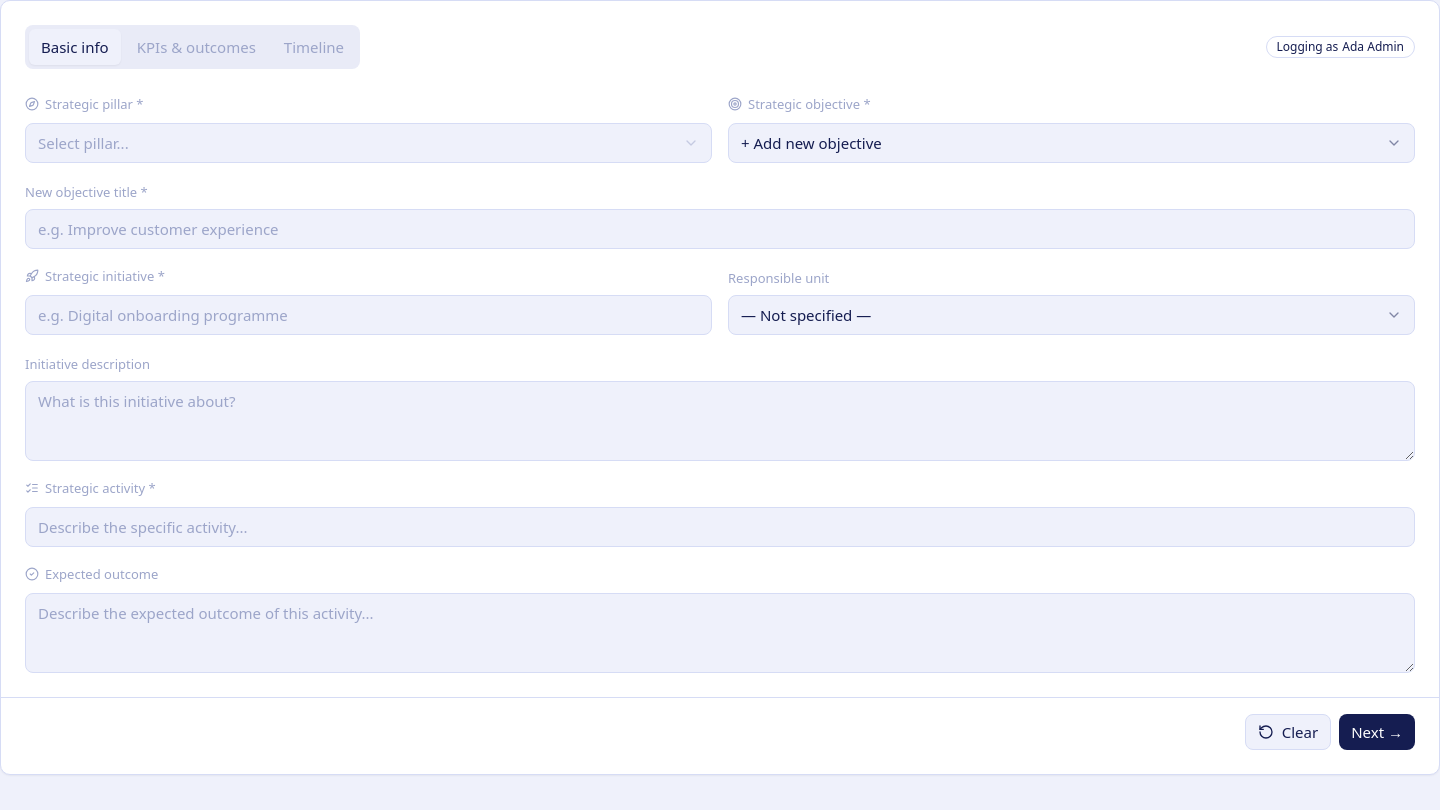
Test: StrategyEntryForm › walks through the steps with Next and shows labelled fields
Expected: the field labelled "Strategic initiative *" is shown, x1=25 y1=295 x2=712 y2=335
Step 1. Click the button "Next →" → click(1377, 732), box x1=1339 y1=714 x2=1415 y2=750
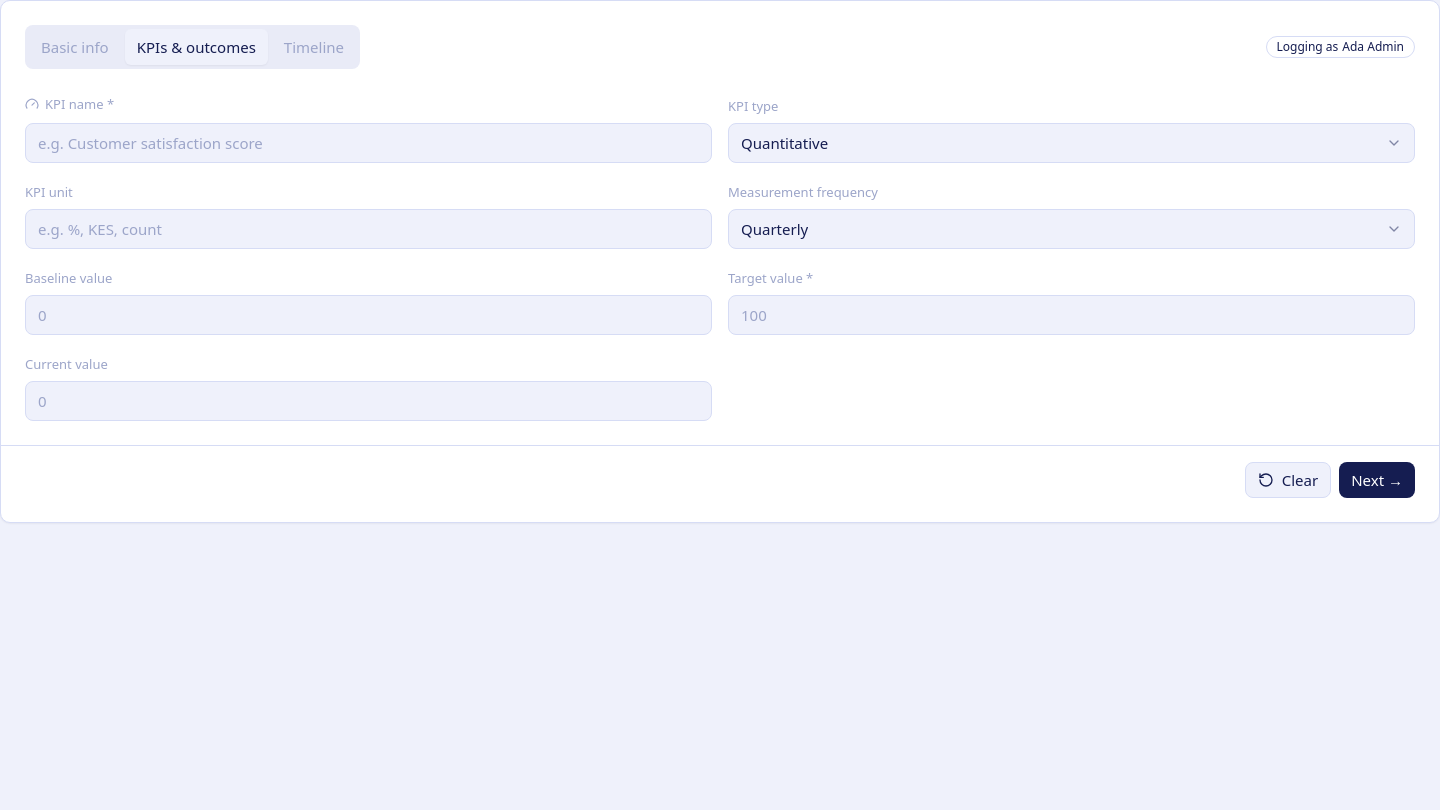
Expected: the field labelled "KPI name *" is shown, x1=25 y1=123 x2=712 y2=163
Step 2. Click the button "Next →" → click(1377, 480), box x1=1339 y1=462 x2=1415 y2=498
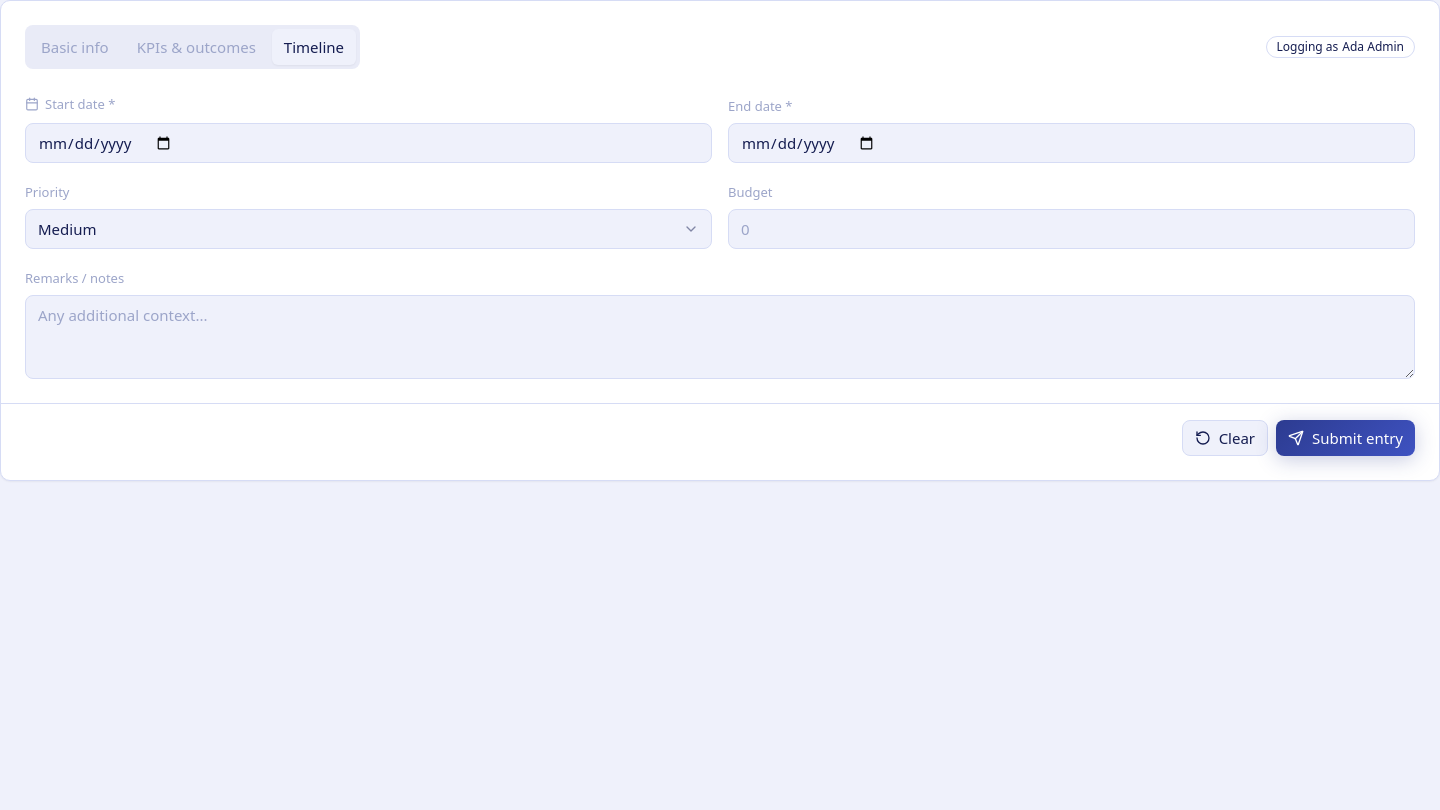
Expected: the date field labelled "Start date *" is shown, x1=25 y1=123 x2=712 y2=163
Expected: the button "Submit entry" is shown, x1=1276 y1=420 x2=1415 y2=456
